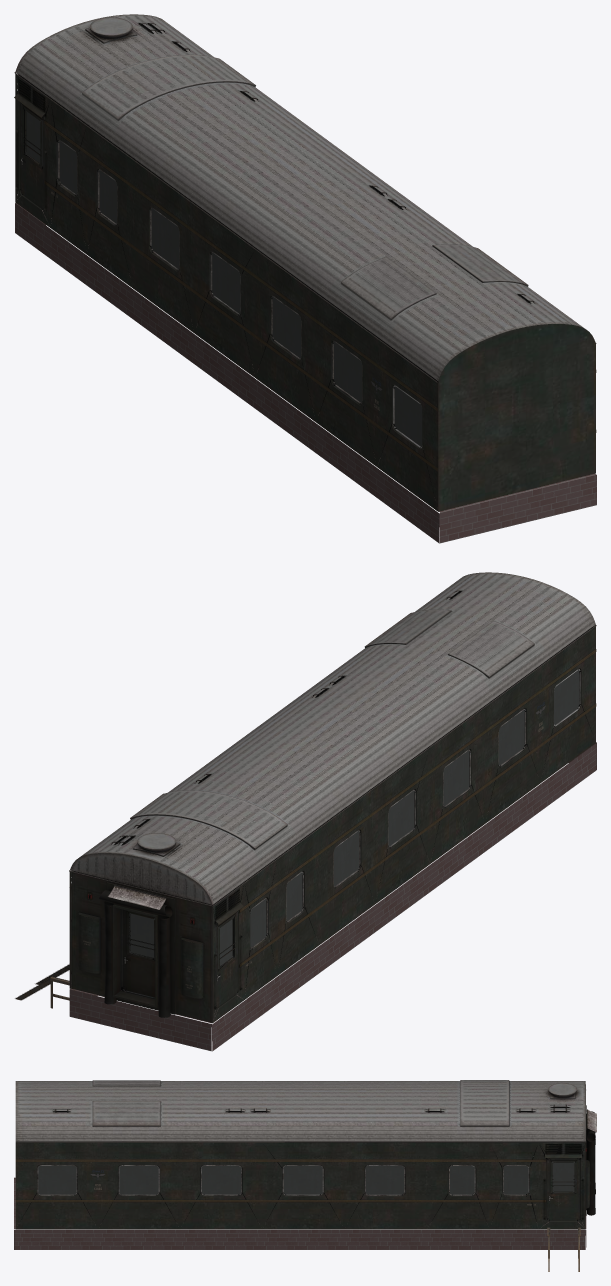
The model's file is car_a.glb.
The picture shows the model from 3 angles, top to bottom: view 1: azimuth 30°, elevation 25°; view 2: azimuth 150°, elevation 25°; view 3: azimuth 270°, elevation 25°; orthographic projection. The views are drawn at different scales.
Visible parts, largest first — view 1: PassengerCar_BaseBox_0; view 2: PassengerCar_BaseBox_0; view 3: PassengerCar_BaseBox_0.
Boxes of the visible parts, bbox=[...] form: PassengerCar_BaseBox_0: bbox=[14, 14, 596, 543]; PassengerCar_BaseBox_0: bbox=[15, 572, 596, 1051]; PassengerCar_BaseBox_0: bbox=[14, 1080, 596, 1271].
Bounding box in the file's own units: 476 × 399 × 1565.
Materials: 6 (6 with a texture image).
